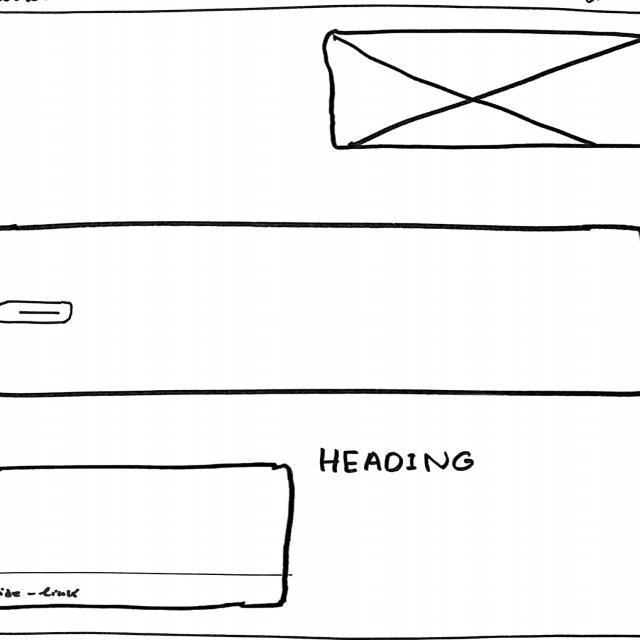container: (1, 223, 640, 401), (1, 461, 296, 613), (1, 1, 640, 17)
icon-button: (1, 298, 74, 326)
image: (316, 25, 640, 153)
label: (317, 446, 479, 476), (1, 585, 84, 602)
